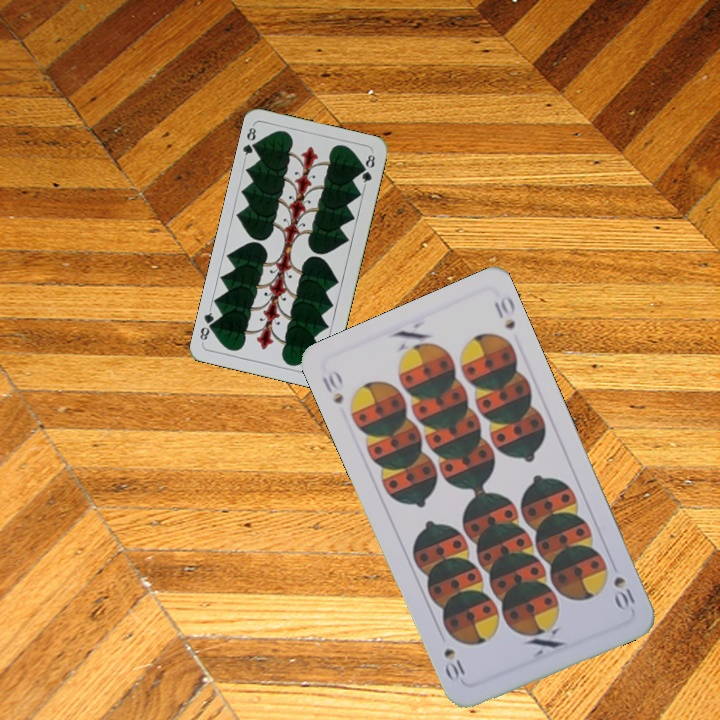G8: (239, 121, 262, 162)
S10: (609, 572, 638, 613), (318, 366, 346, 407)
